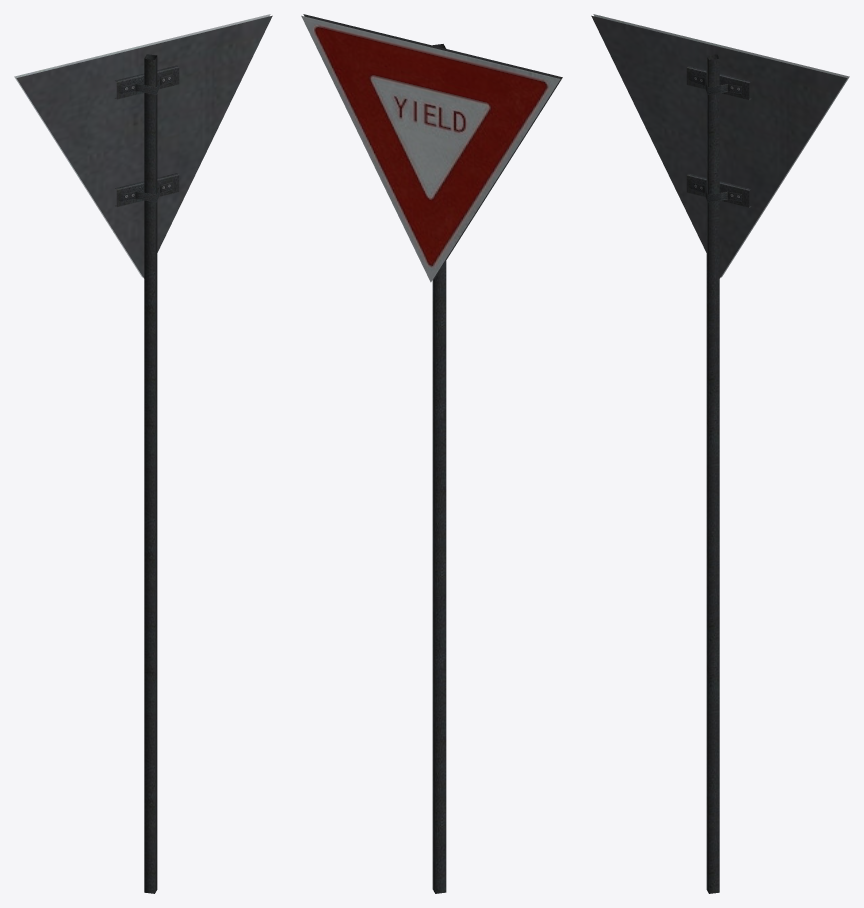
The model's file is Yield.glb.
3 renders of one model, left to right at view 1: azimuth 30°, elevation 25°; view 2: azimuth 150°, elevation 25°; view 3: azimuth 330°, elevation 25°, orthographic.
Visible parts, largest first — view 1: Yield__LOD1; view 2: Yield__LOD1; view 3: Yield__LOD1.
Part boxes in pixels (box(x1,y1,x2,y2)): Yield__LOD1: box(14, 14, 272, 893); Yield__LOD1: box(301, 14, 562, 893); Yield__LOD1: box(591, 14, 849, 893).
Size of the model in its own units: 0.9633 by 3.01 by 0.0921.
1 material, 1 textured.
